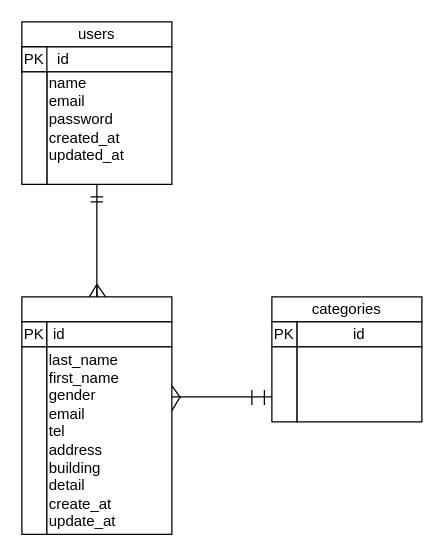
The diagram is 444 pixels wide and 556 high, and some of its shapes have lost their labels. Each missing label, with the centre of its shape:
"contacts" goes at pixel 96 309.
"content created_at update_at" goes at pixel 359 384.
